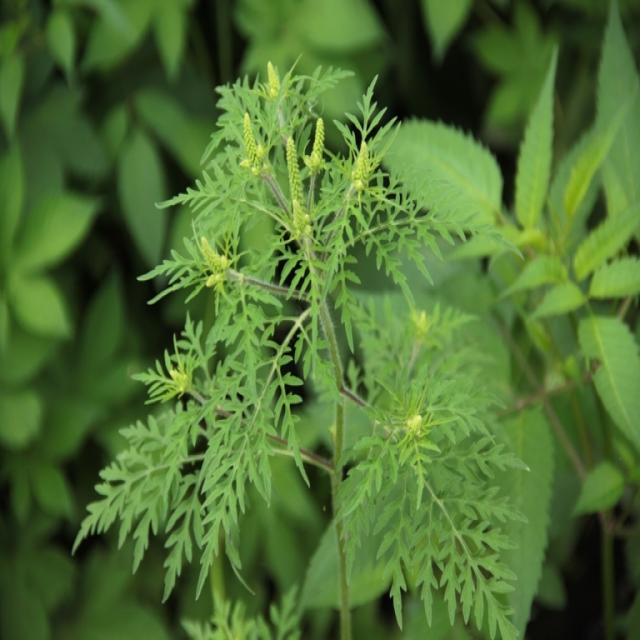ambrosia: (201, 63, 410, 351), (110, 303, 319, 583), (360, 351, 519, 640)
